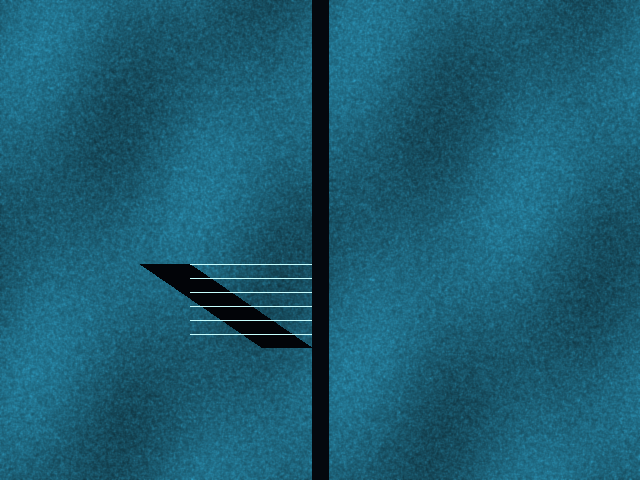Fishing Net: (190, 264, 311, 347)
